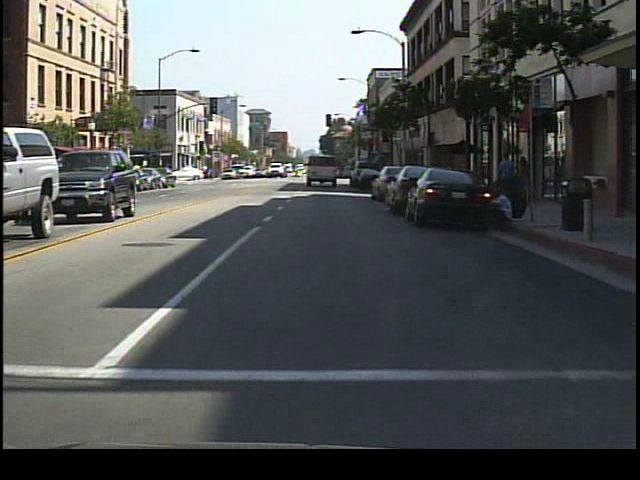person: (493, 144, 519, 210), (512, 152, 535, 208)
